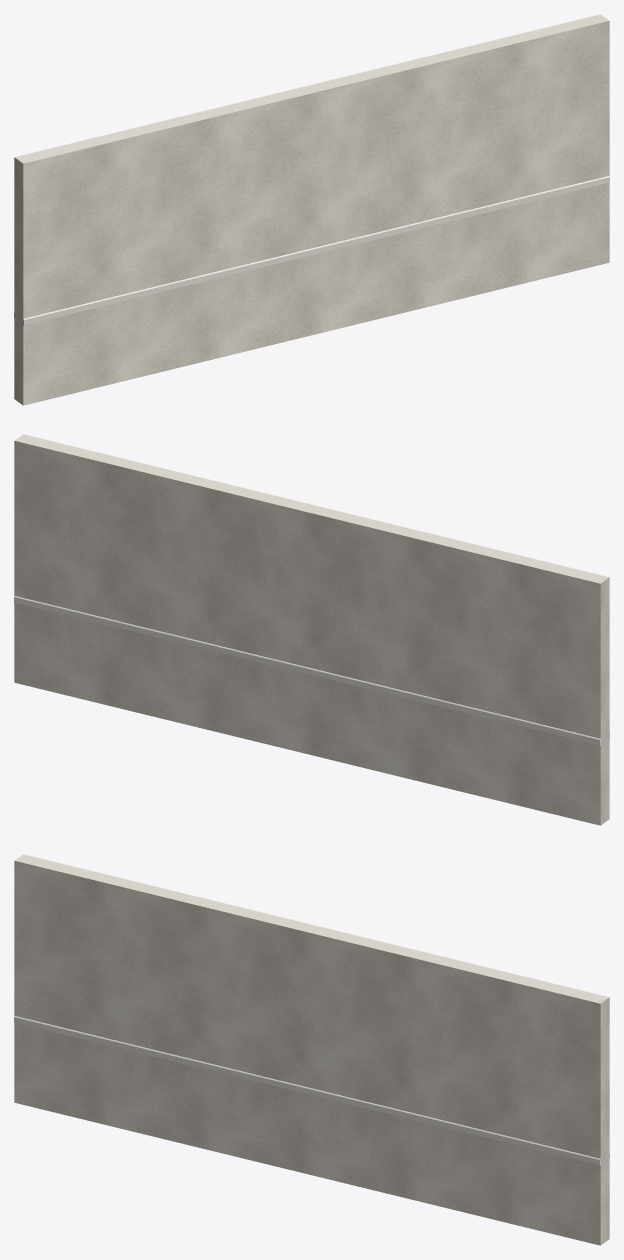
File: party_g.glb
The picture shows the model from 3 angles, top to bottom: view 1: azimuth 30°, elevation 25°; view 2: azimuth 150°, elevation 25°; view 3: azimuth 330°, elevation 25°; orthographic projection.
Parts seen in each view (by area): view 1: party_g_plaster, party_g_trim; view 2: party_g_plaster, party_g_trim; view 3: party_g_plaster, party_g_trim.
Part boxes in pixels (x1=…): party_g_plaster: x1=14, y1=14, x2=609, y2=405; party_g_trim: x1=14, y1=176, x2=609, y2=325; party_g_plaster: x1=14, y1=434, x2=609, y2=825; party_g_trim: x1=14, y1=596, x2=609, y2=745; party_g_plaster: x1=14, y1=854, x2=609, y2=1245; party_g_trim: x1=14, y1=1016, x2=609, y2=1165.
Bounding box in the file's own units: 11.4 × 4.5 × 0.332.
Materials: 2 (1 with a texture image).
